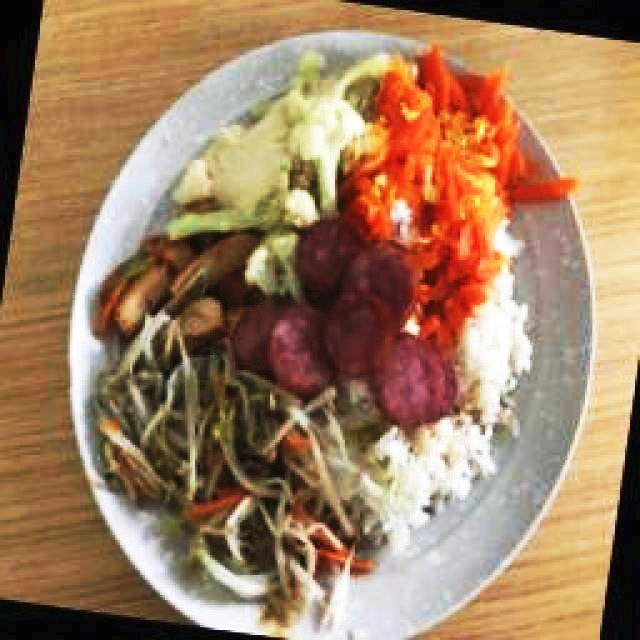carrot_eggs: (337, 54, 582, 232)
chinese_sausage: (234, 222, 456, 422)
mung_bean_sprouts: (82, 321, 227, 549), (231, 393, 324, 640)
rice: (357, 428, 481, 540), (475, 316, 521, 394)
